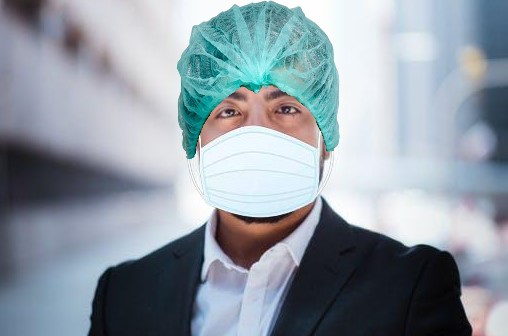with_mask_and_cap: (177, 2, 339, 218)
